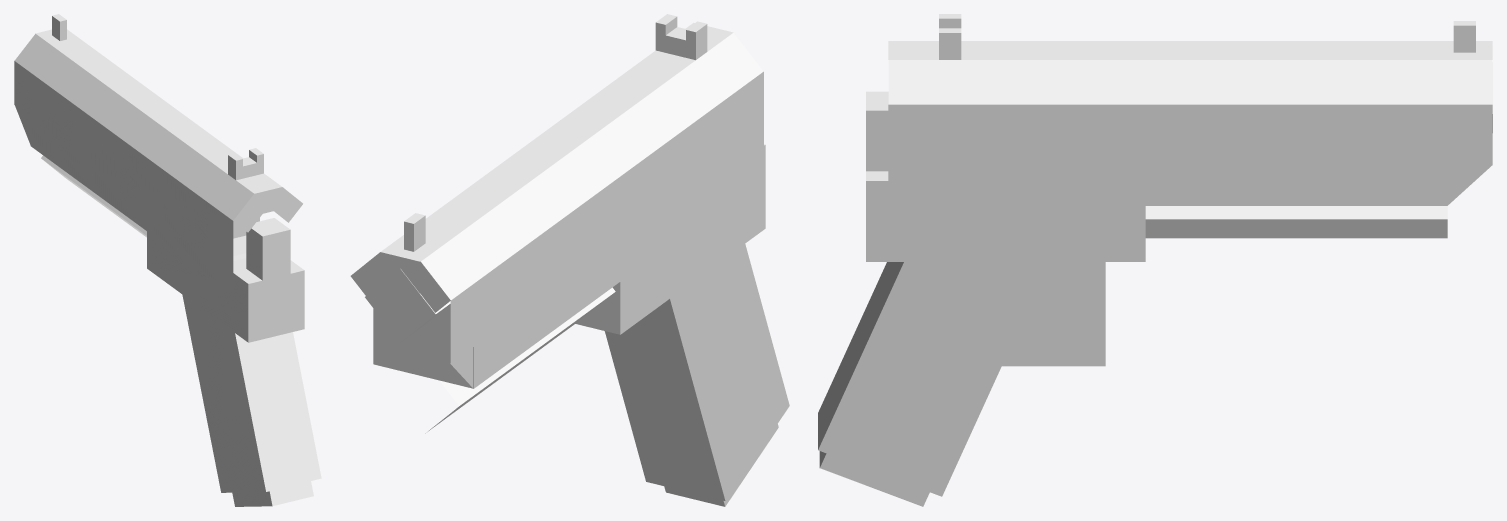
File: jeg_semi_auto_pistol.glb
The picture shows the model from 3 angles, left to right: view 1: azimuth 30°, elevation 25°; view 2: azimuth 150°, elevation 25°; view 3: azimuth 270°, elevation 25°; orthographic projection. The views are drawn at different scales.
Visible parts, largest first — view 1: Gun; view 2: Gun; view 3: Gun.
Boxes of the visible parts, bbox=[...] form: Gun: bbox=[14, 14, 321, 506]; Gun: bbox=[350, 14, 789, 506]; Gun: bbox=[818, 14, 1492, 506].
Size of the model in its own units: 0.0625 by 0.2894 by 0.3769.
Materials: 1 (1 with a texture image).
